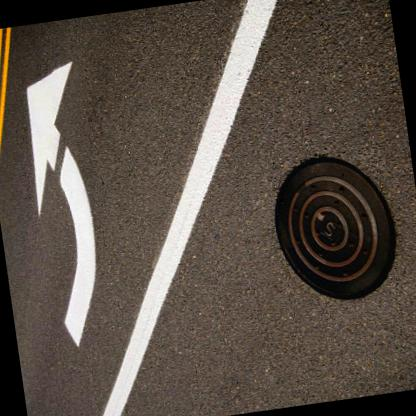manholes: (242, 122, 412, 330)
